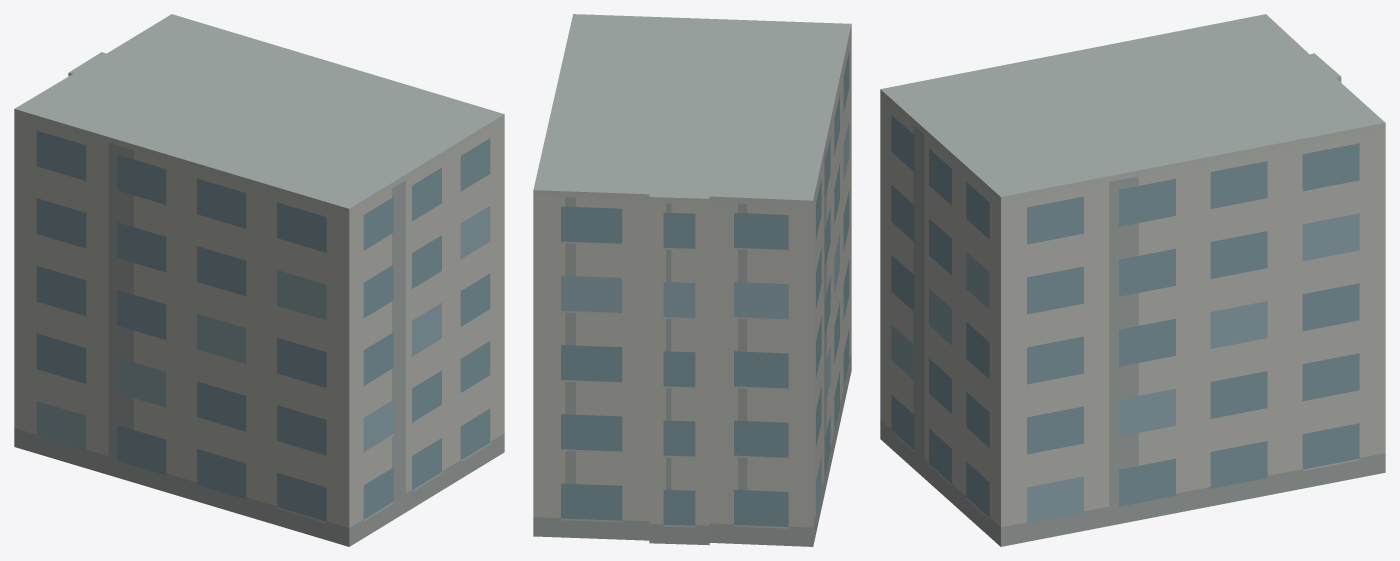
File: survey-upis-33045139.glb
The picture shows the model from 3 angles, left to right: view 1: azimuth 30°, elevation 25°; view 2: azimuth 150°, elevation 25°; view 3: azimuth 270°, elevation 25°; orthographic projection. The views are drawn at different scales.
Visible parts, largest first — view 1: survey-upis-33045139.tmp; view 2: survey-upis-33045139.tmp; view 3: survey-upis-33045139.tmp.
Boxes of the visible parts, box(x1,y1,x2,y2) form: survey-upis-33045139.tmp: box(14, 14, 504, 546); survey-upis-33045139.tmp: box(533, 14, 851, 546); survey-upis-33045139.tmp: box(880, 14, 1385, 546).
Size of the model in its own units: 16.16 by 14.4 by 18.85.
